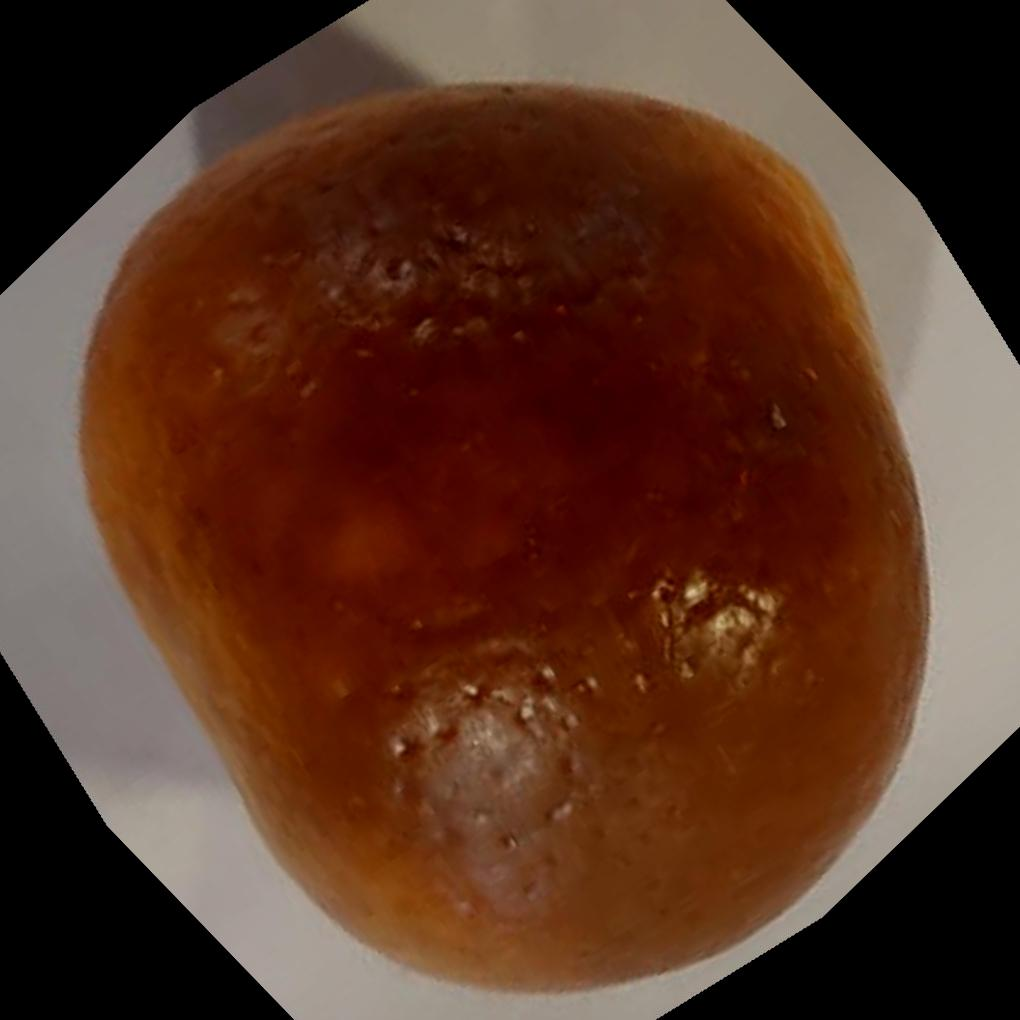FreshOrange: (71, 77, 930, 995)
